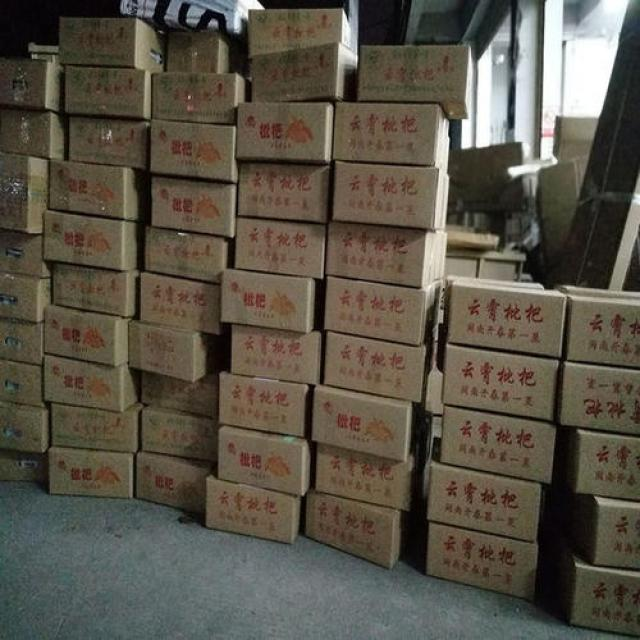box: (315, 413, 431, 511), (305, 475, 425, 567), (428, 462, 558, 545), (445, 276, 564, 360), (440, 404, 556, 483), (442, 344, 559, 421), (315, 381, 429, 460), (428, 521, 539, 602), (321, 326, 436, 404), (357, 45, 475, 120), (323, 276, 444, 347), (333, 102, 451, 173), (553, 539, 640, 635), (332, 163, 451, 230), (325, 224, 448, 288), (216, 425, 315, 495), (220, 269, 324, 334), (559, 287, 640, 367), (219, 371, 314, 438), (252, 45, 358, 105), (207, 477, 303, 543), (49, 159, 151, 221), (127, 320, 230, 380), (558, 358, 637, 435), (236, 161, 332, 223), (45, 211, 145, 270), (44, 302, 131, 369), (60, 17, 169, 70), (238, 104, 334, 164), (151, 173, 238, 238), (234, 215, 326, 276), (230, 324, 321, 385), (51, 259, 140, 321), (42, 353, 141, 408), (568, 425, 640, 500), (138, 270, 220, 335), (570, 492, 640, 568), (136, 449, 218, 513), (150, 120, 237, 180), (142, 227, 234, 283), (140, 401, 223, 461), (65, 65, 155, 120), (251, 9, 352, 58), (152, 72, 247, 123), (50, 402, 142, 453), (49, 445, 137, 497), (68, 115, 148, 169), (140, 369, 223, 420), (0, 152, 50, 236), (0, 60, 67, 114), (1, 106, 65, 159), (0, 271, 51, 324), (0, 402, 51, 454), (0, 360, 46, 410), (168, 40, 234, 74), (1, 317, 46, 365), (1, 228, 44, 278), (1, 445, 50, 483)
